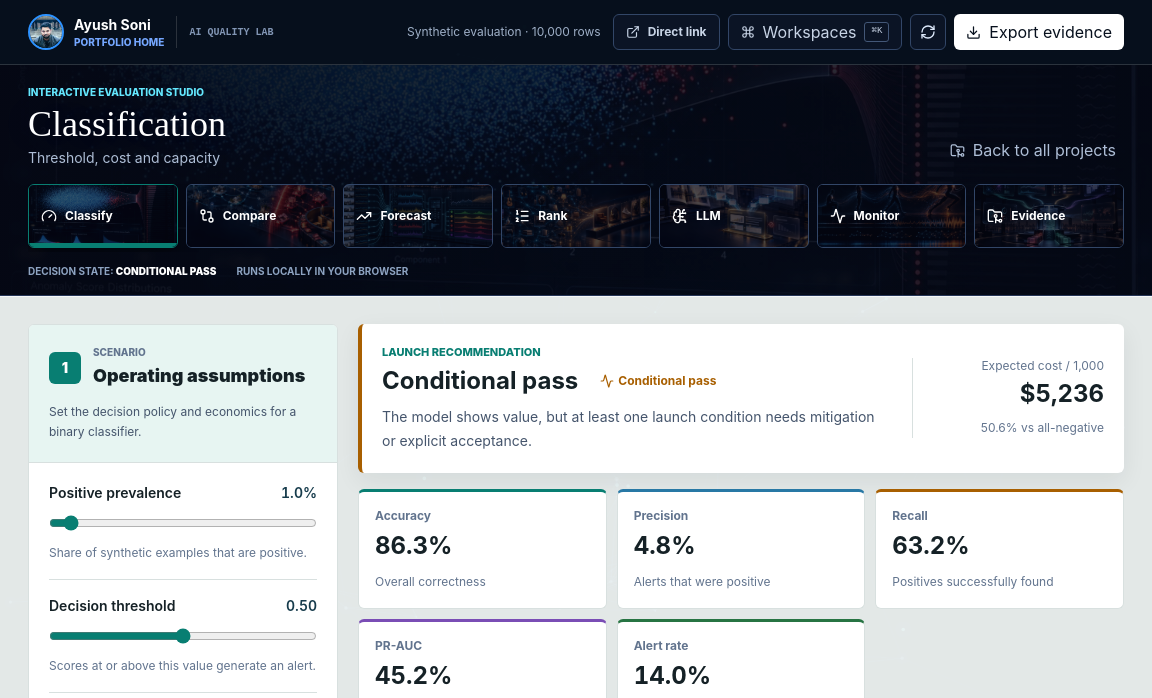
Test: workspace navigation › activates GitHub model comparison
What coordinates should you click on to do the following:
click the tab with aria-label "GitHub model comparison"
I would click on:
 (261, 216)
Its box is [186,184,335,248].
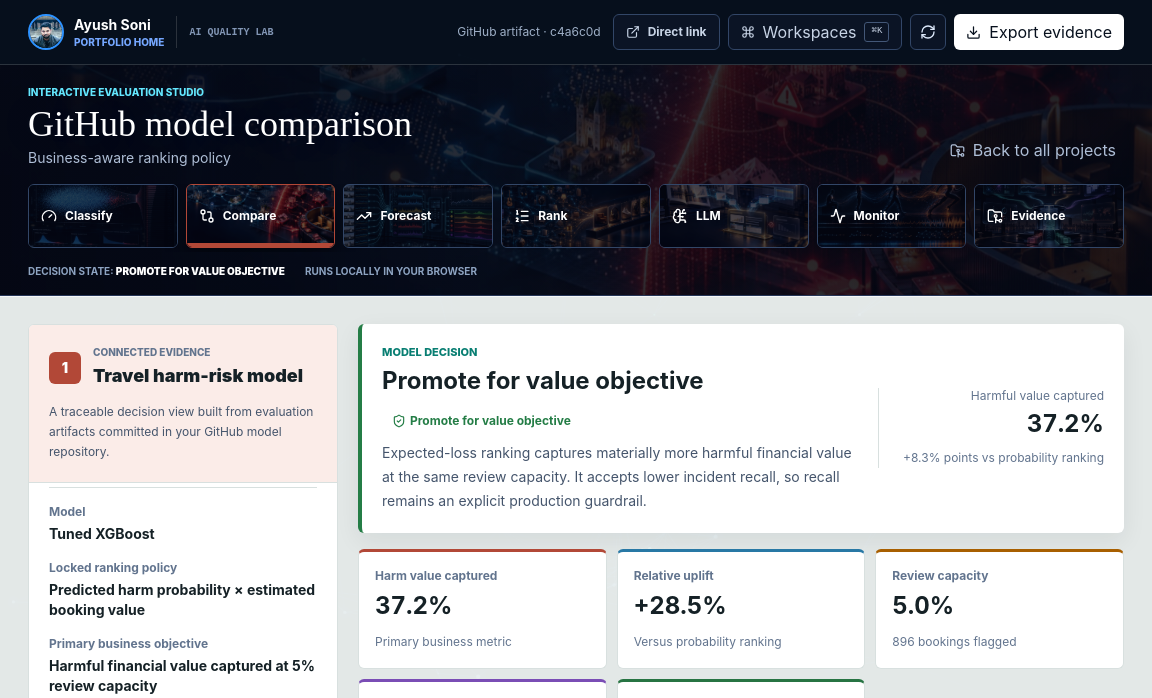
Expected: the heading "Travel harm-risk model" is shown, [93,362,303,390]
